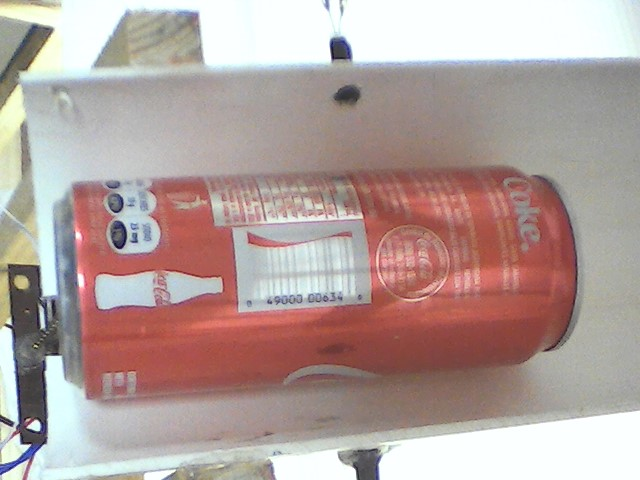lata: (48, 161, 589, 398)
